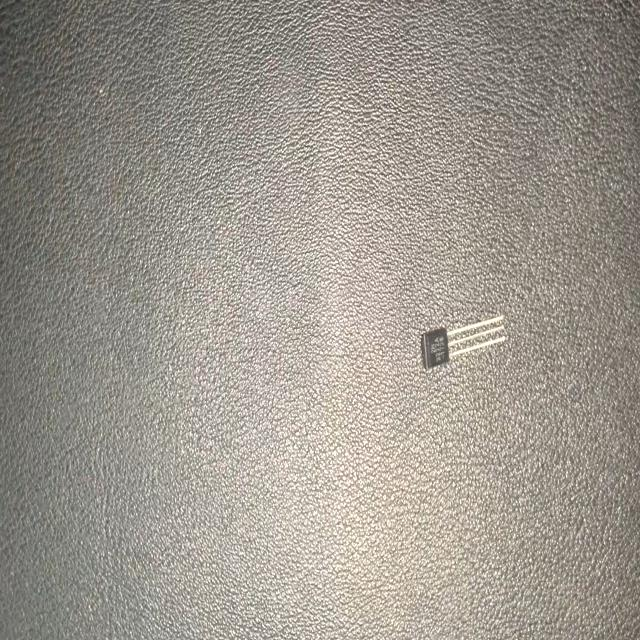BJT: (418, 307, 510, 374)
